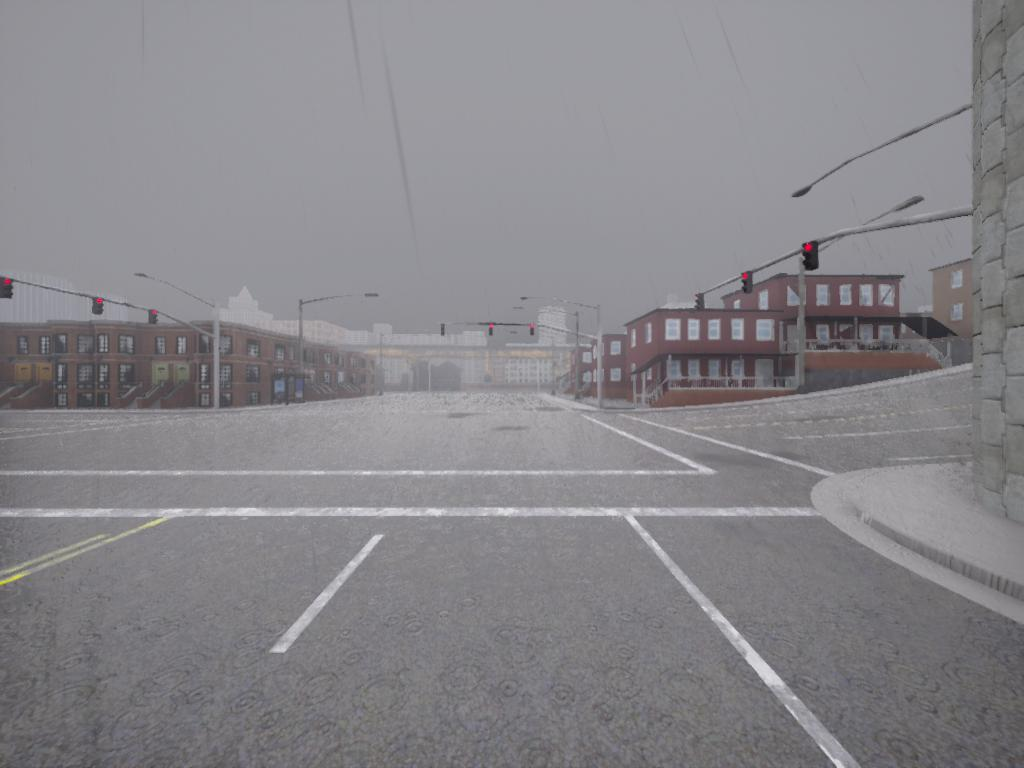traffic_light: (804, 243, 820, 271), (1, 278, 14, 301), (744, 274, 754, 295), (148, 307, 158, 328), (94, 299, 105, 318), (695, 293, 704, 313), (488, 325, 497, 336), (440, 324, 447, 337), (532, 326, 539, 338)
